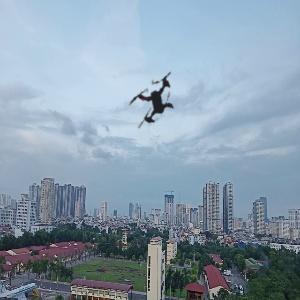drone: (110, 55, 202, 147)
